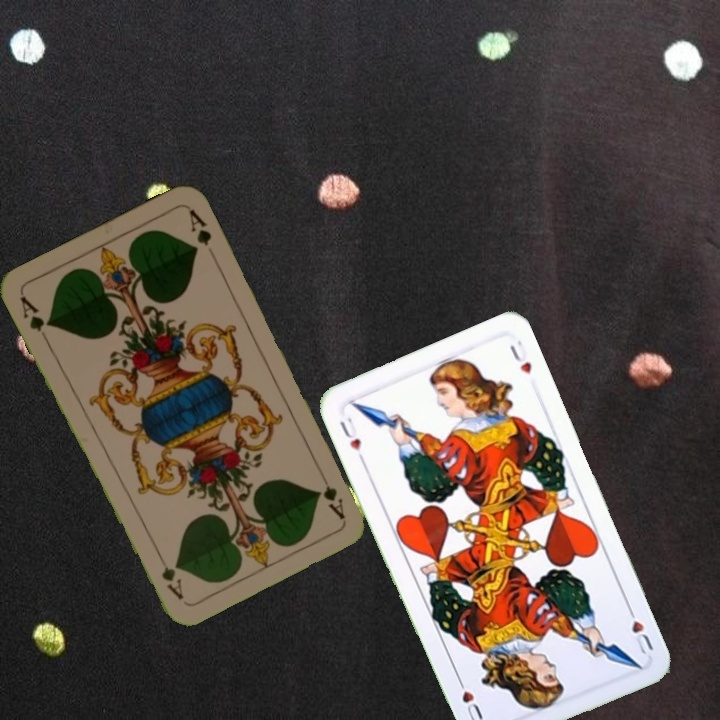GA: (314, 465, 348, 521), (16, 292, 54, 335)
HU: (623, 601, 656, 658), (335, 413, 367, 465)
